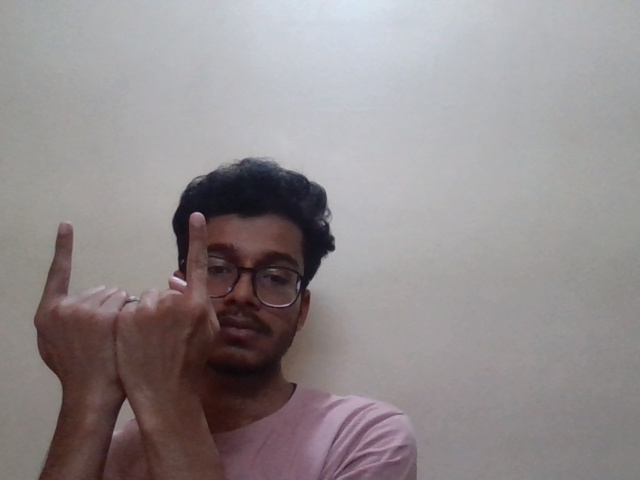when: (13, 194, 247, 401)
